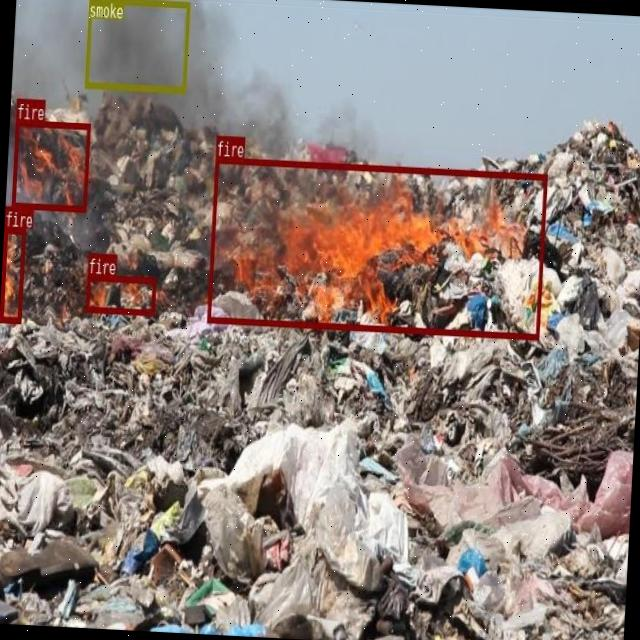fire: (207, 156, 547, 338), (11, 118, 90, 210), (85, 274, 156, 314), (0, 226, 25, 321)
smoke: (83, 0, 189, 91)
